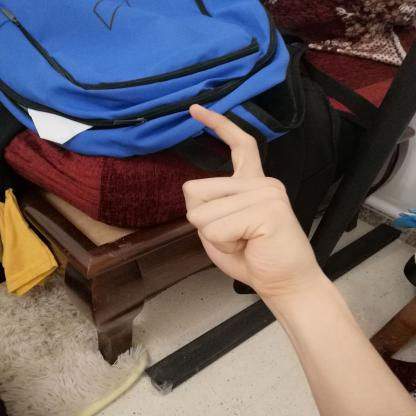RAA: (168, 90, 326, 300)
